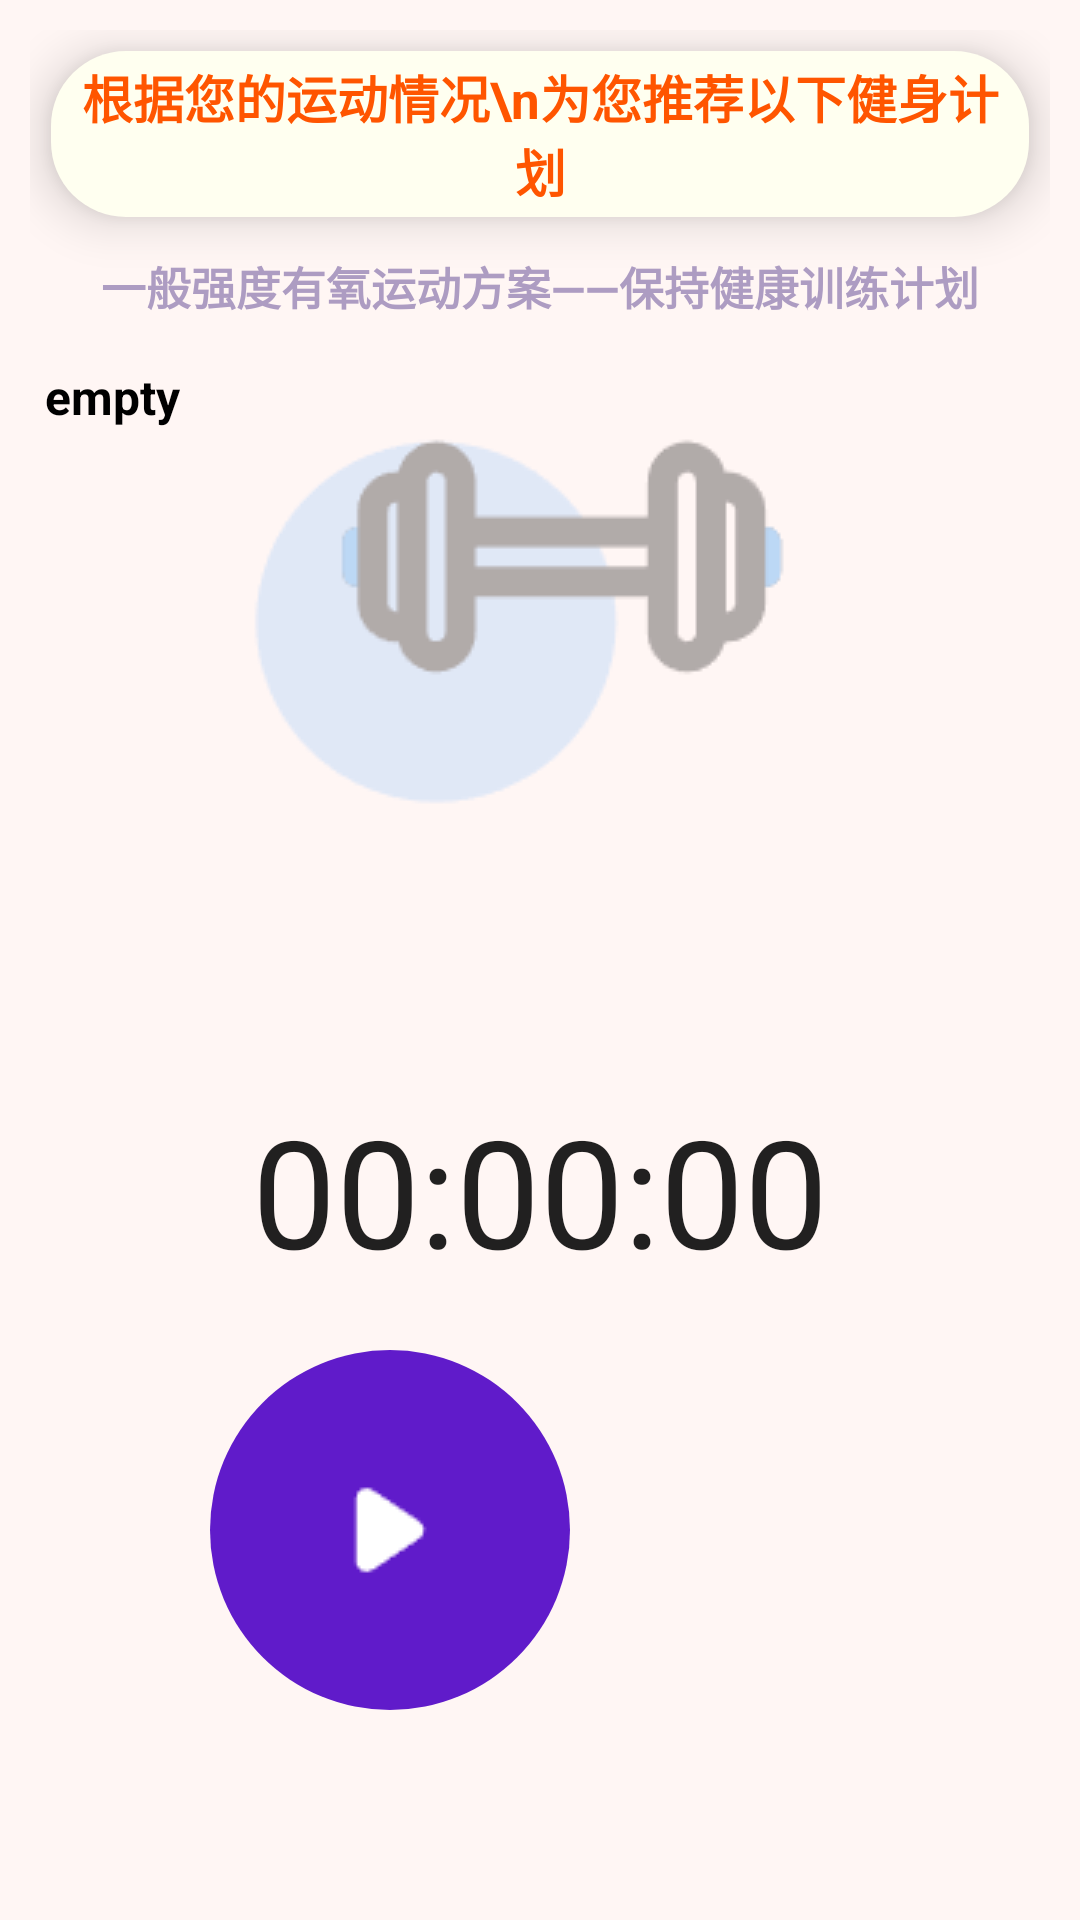

Locate icon controls on the screen. Image size 1080*1920, boxes as (x1=x1, y1=y1, x2=x2, y2=y2).
start: (x1=210, y1=1350, x2=570, y2=1710)
